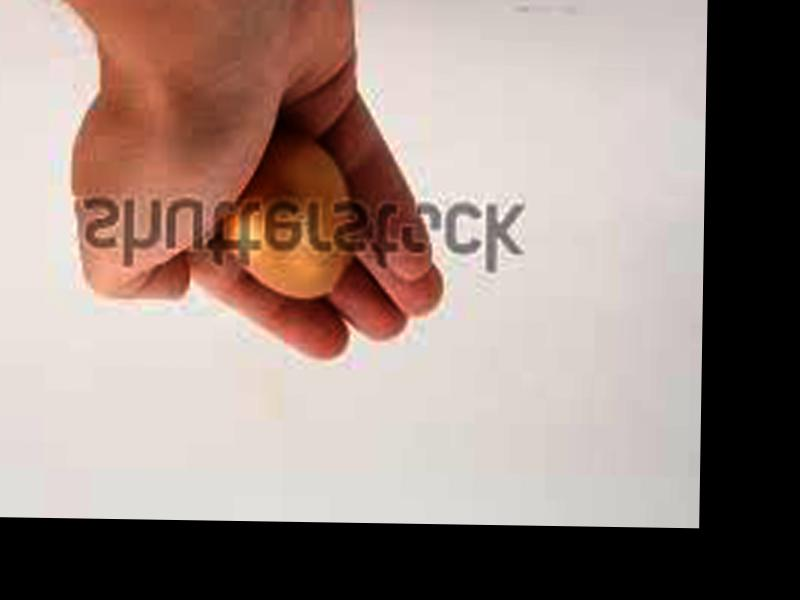Eggs: (225, 134, 353, 298)
